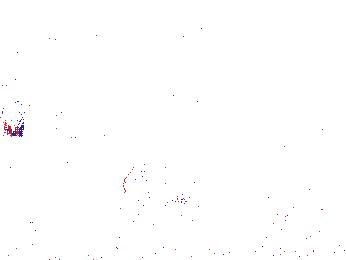flame jellyfish: (270, 173, 346, 228), (1, 43, 39, 138), (123, 159, 188, 209)
